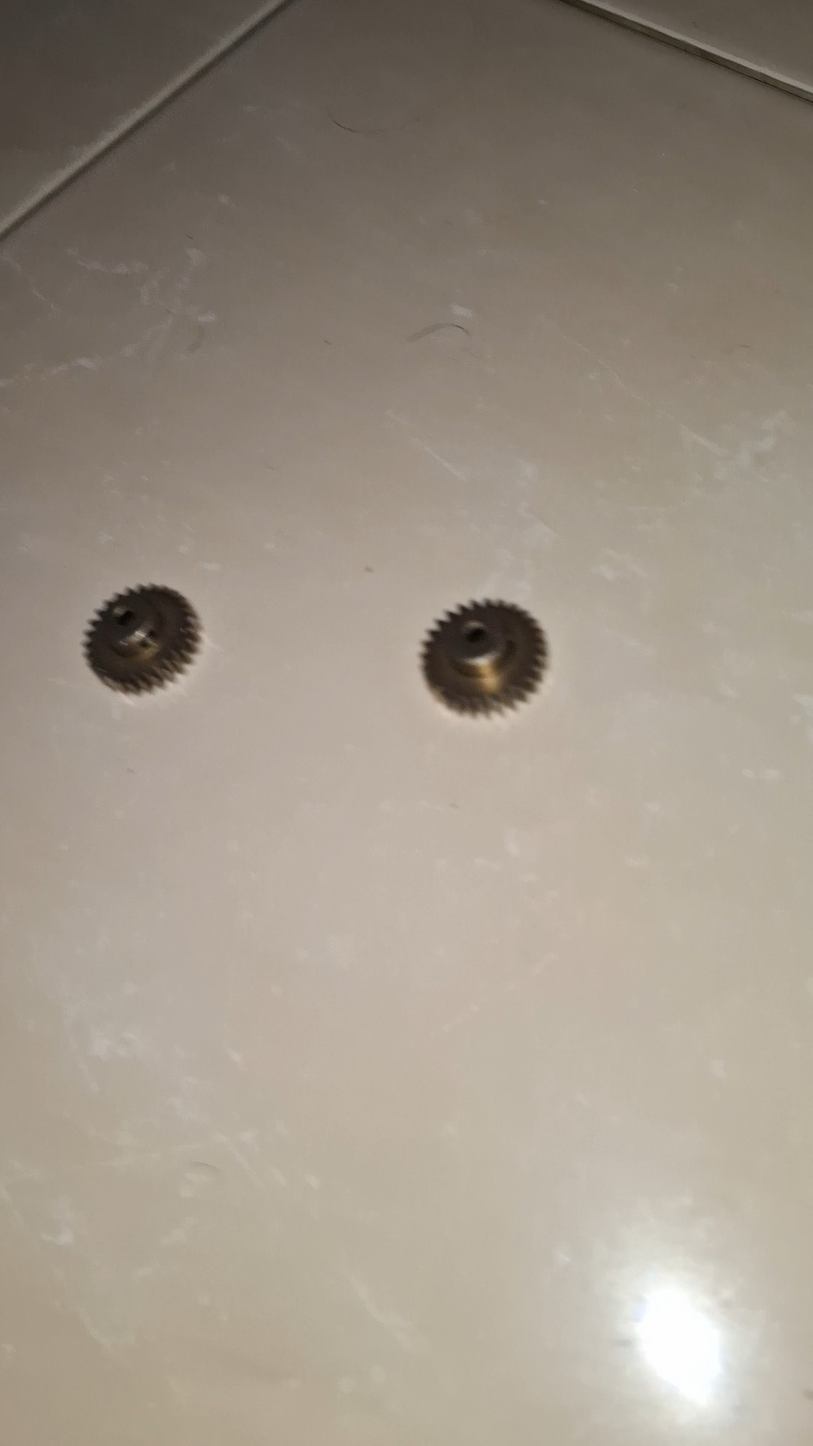spur gear: (423, 601, 545, 715), (85, 585, 199, 694)
